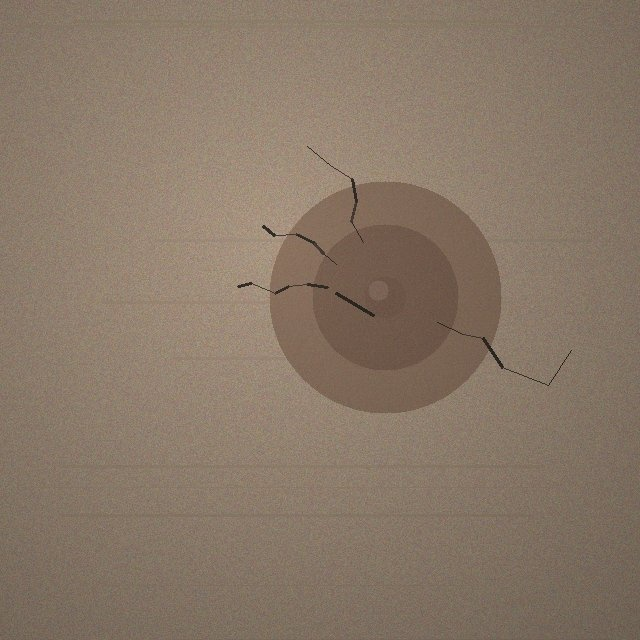crack: (269, 181, 501, 413)
